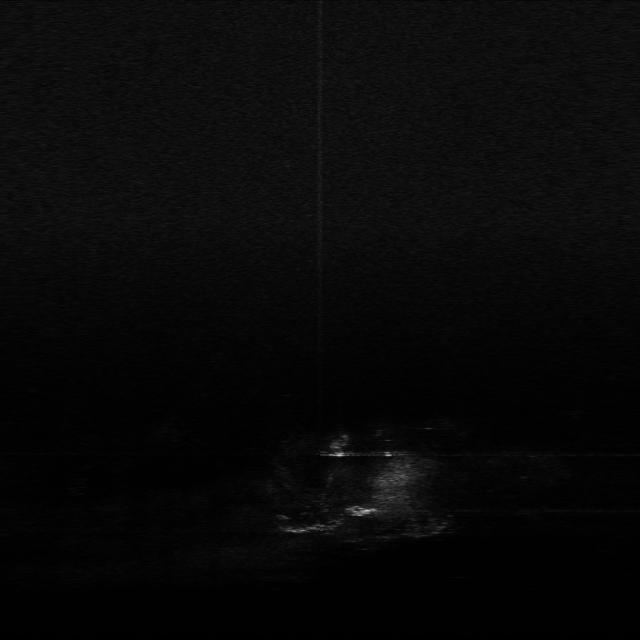rov: (346, 502, 376, 518)
